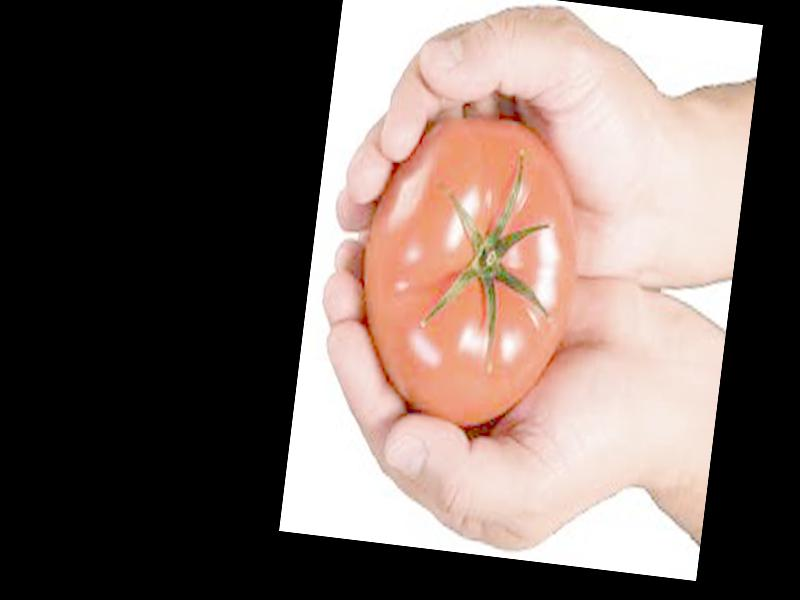Tomato: (349, 104, 590, 437)
